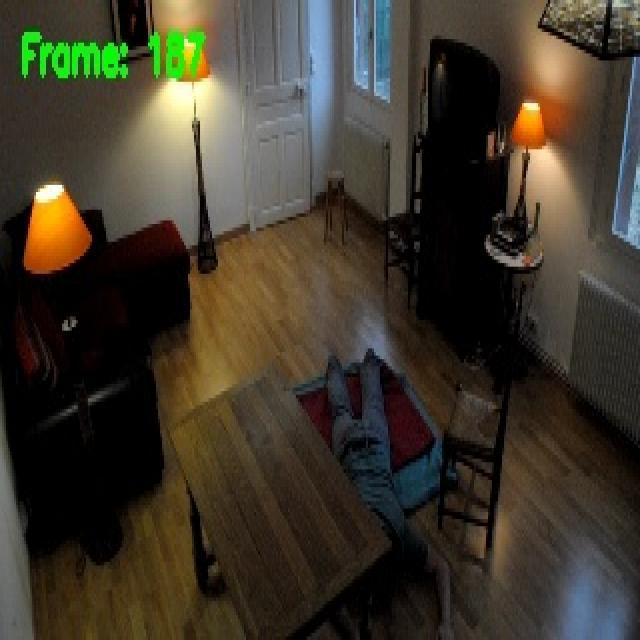fall: (323, 347, 457, 640)
